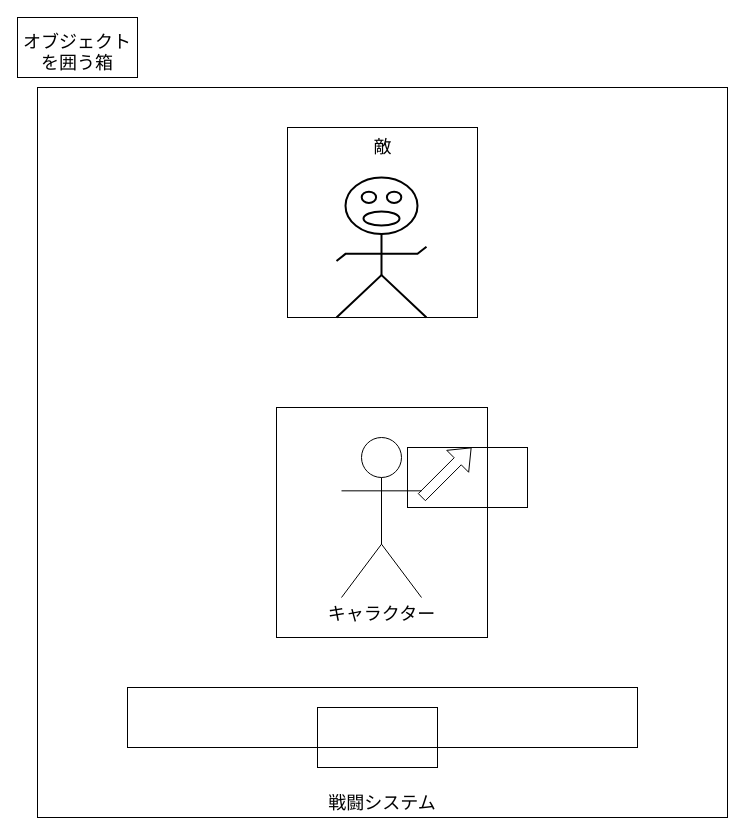
Some shapes in this 745 by 835 pixel diagram are drawn without their labels. The shapes that lost their labels are listed below. From the top down, each one's box as (x1, y1, x2, y2) in pixels, then its label:
(406, 446, 528, 508): 武器
(126, 686, 638, 748): 戦う アイテム 逃げる
